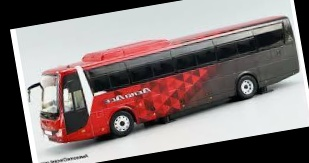bus: (30, 13, 307, 150)
